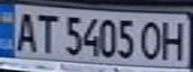0: (100, 16, 118, 58)
4: (78, 15, 100, 57)
5: (60, 12, 84, 56), (115, 16, 139, 60)
A: (9, 8, 39, 53)
H: (157, 17, 190, 61)
O: (136, 18, 166, 61)
T: (33, 9, 60, 54)
